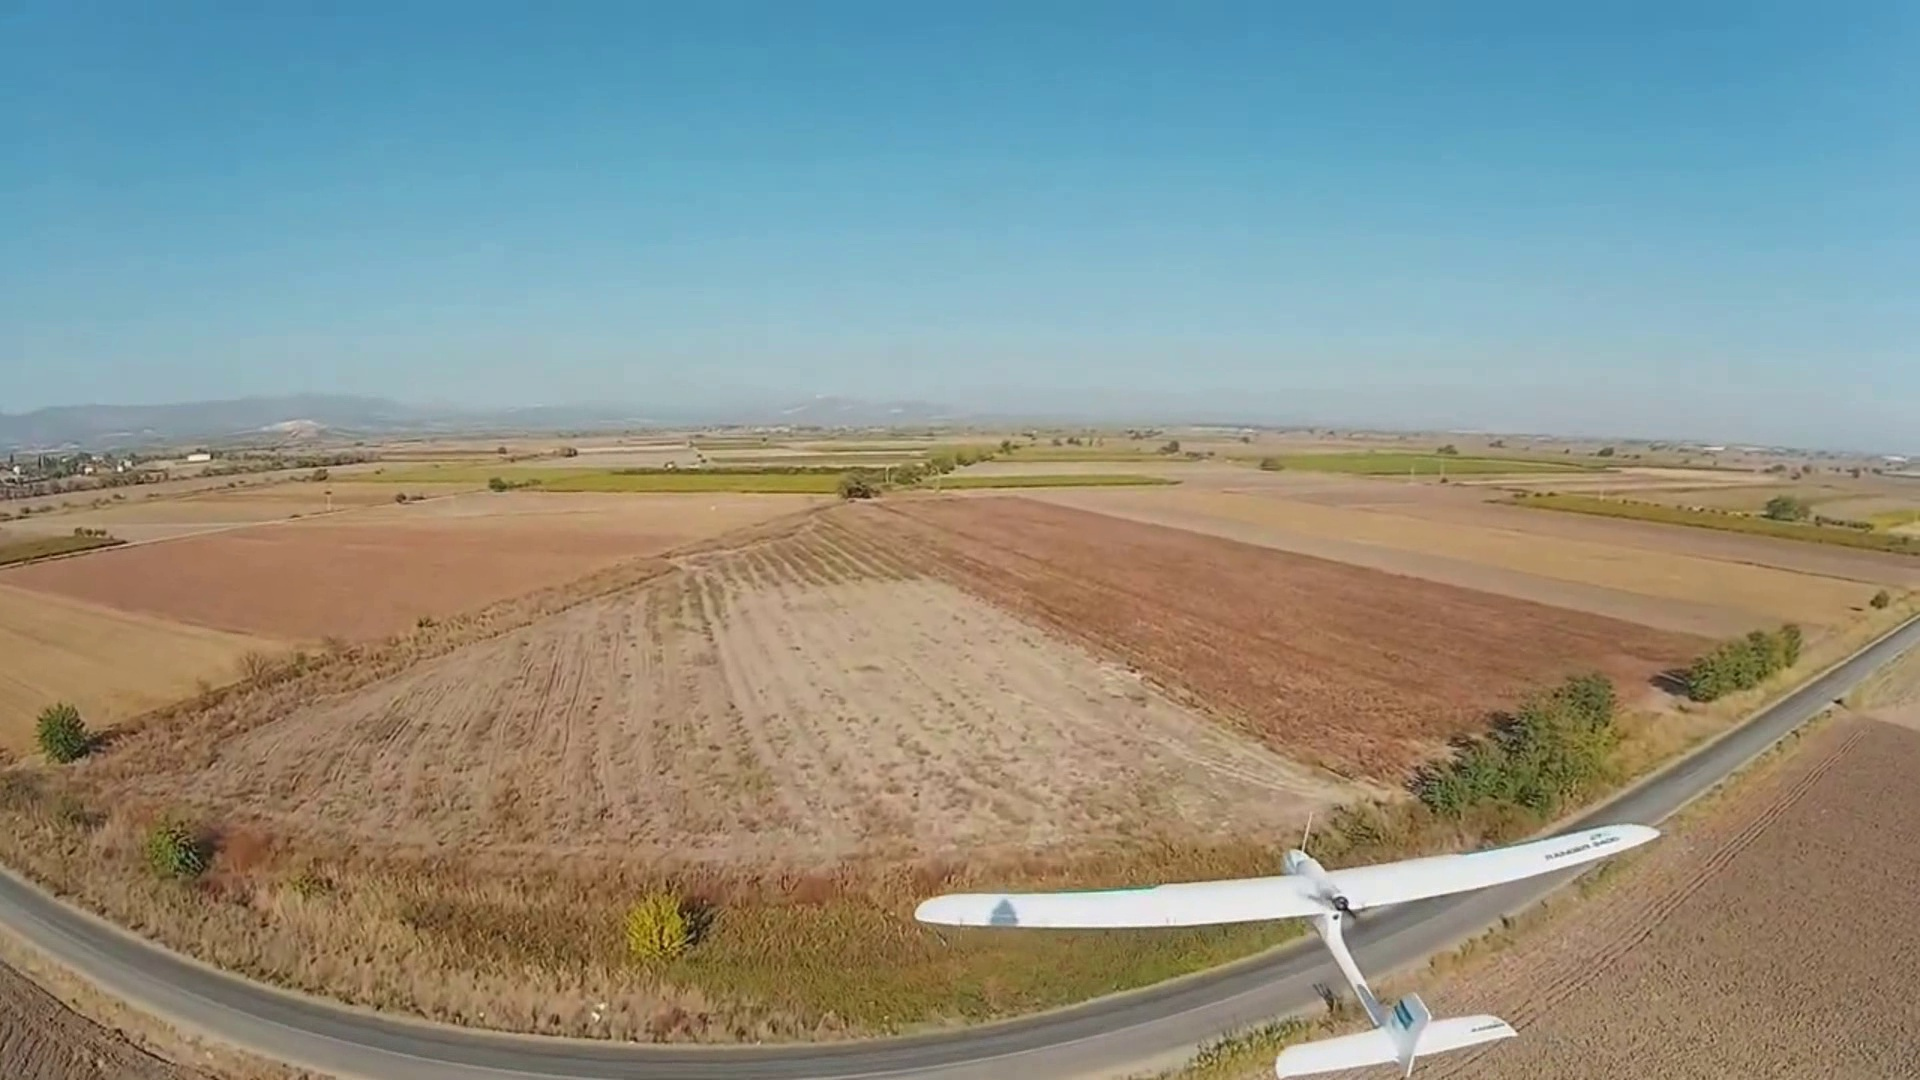airplane: (914, 596, 1919, 1065)
